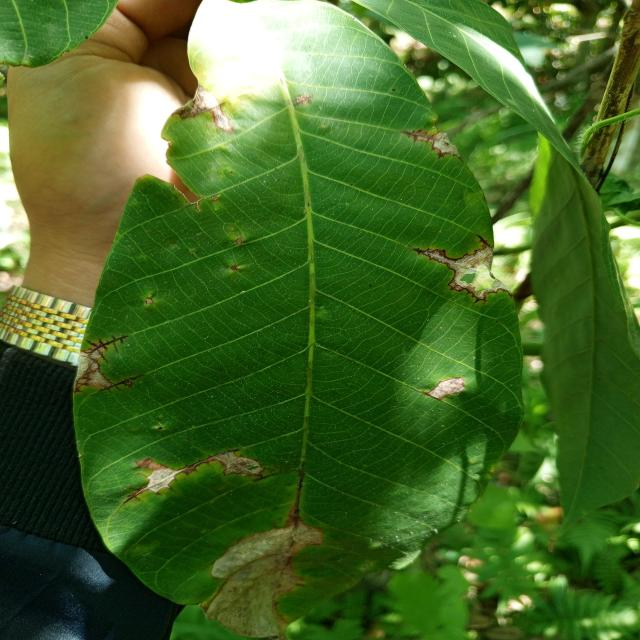Corynespora: (122, 448, 240, 505), (401, 128, 463, 163), (80, 334, 130, 365), (285, 462, 306, 528), (412, 248, 457, 270), (100, 374, 144, 392), (474, 233, 492, 250), (408, 245, 410, 248)
Leaf-Blight: (202, 508, 324, 640), (454, 247, 510, 297), (172, 86, 232, 132), (72, 353, 111, 388), (212, 452, 263, 475), (428, 376, 466, 399), (149, 469, 184, 493), (435, 132, 460, 158)
